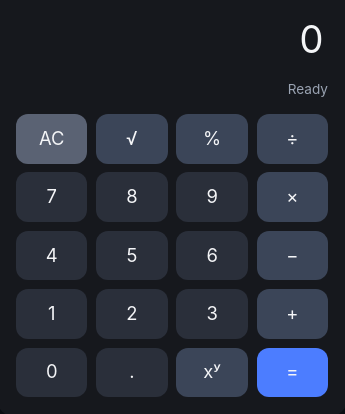
it: Calculator › sends sqrt with only operand a
This screenshot has width=345, height=414.
Click the button "9". click: (212, 197)
box: [176, 172, 248, 222]
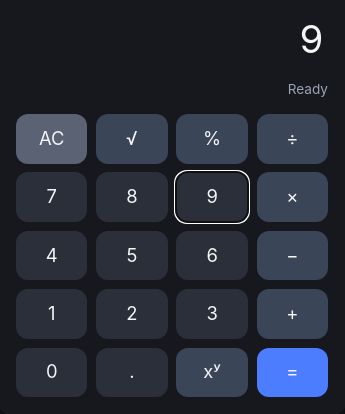
Click the button named "square root". click: (132, 139)
box: [96, 114, 168, 164]
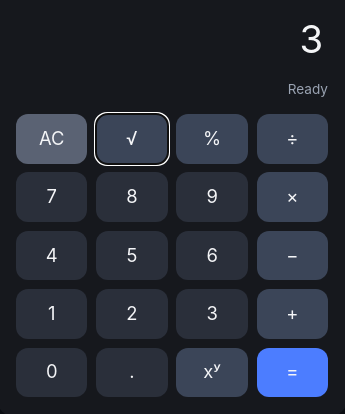
Check: the message reads "3", box [299, 16, 324, 62]
